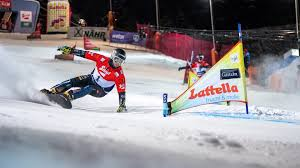snowboard: (38, 88, 72, 112)
